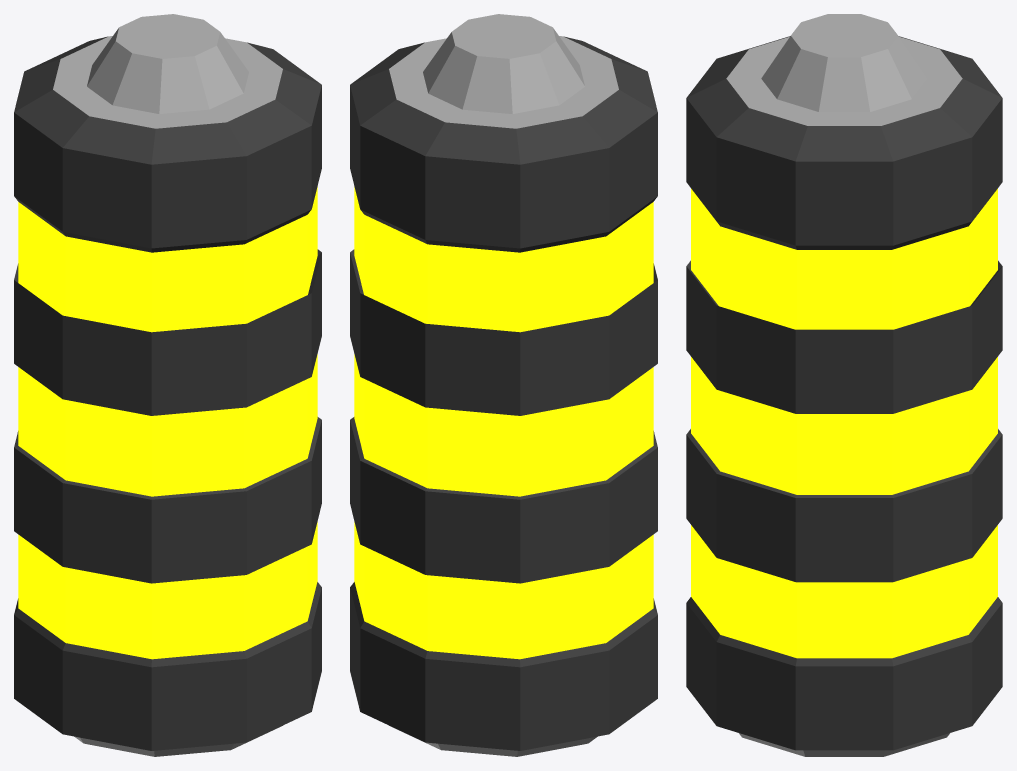
Rendered from Bateria.fbx.
3 renders of one model, left to right at view 1: azimuth 30°, elevation 25°; view 2: azimuth 150°, elevation 25°; view 3: azimuth 270°, elevation 25°, orthographic.
Parts seen in each view (by area): view 1: Cylinder; view 2: Cylinder; view 3: Cylinder.
Boxes of the visible parts, x1,y1,x2,y2 form: Cylinder: [14, 14, 321, 756]; Cylinder: [350, 14, 657, 756]; Cylinder: [686, 14, 1002, 756].
Bounding box in the file's own units: 190 × 468 × 200.
